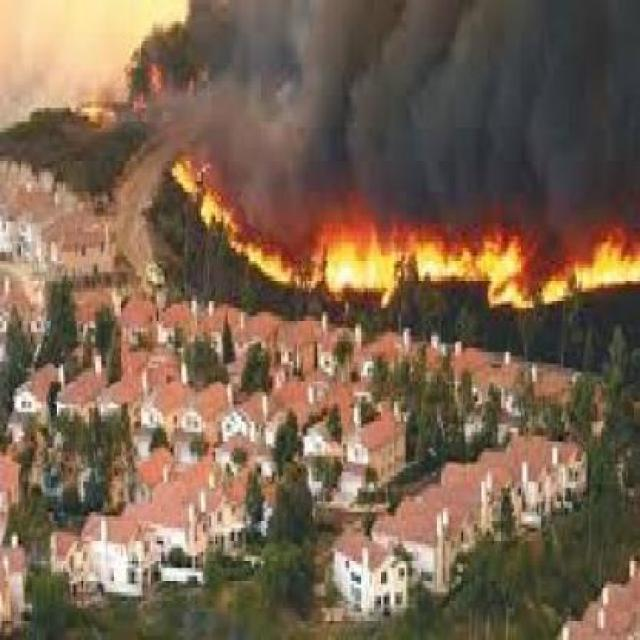Fire: (144, 144, 640, 342)
Smoke: (100, 0, 639, 205)
